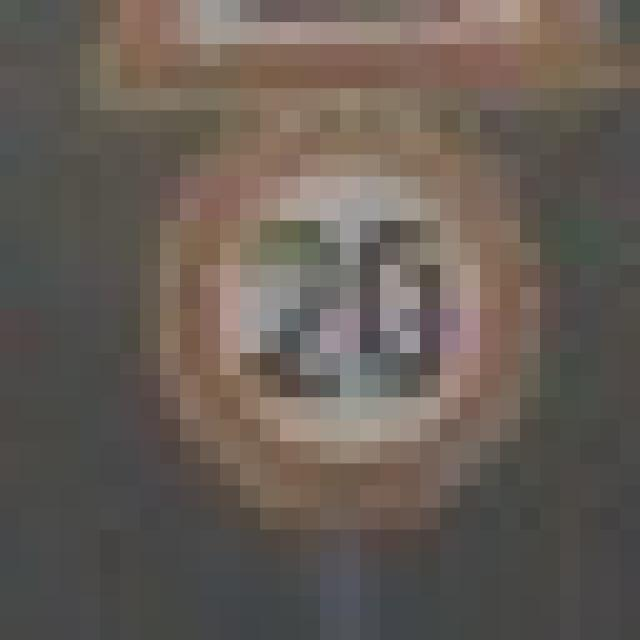Speed Limit -20-: (120, 110, 540, 530)
